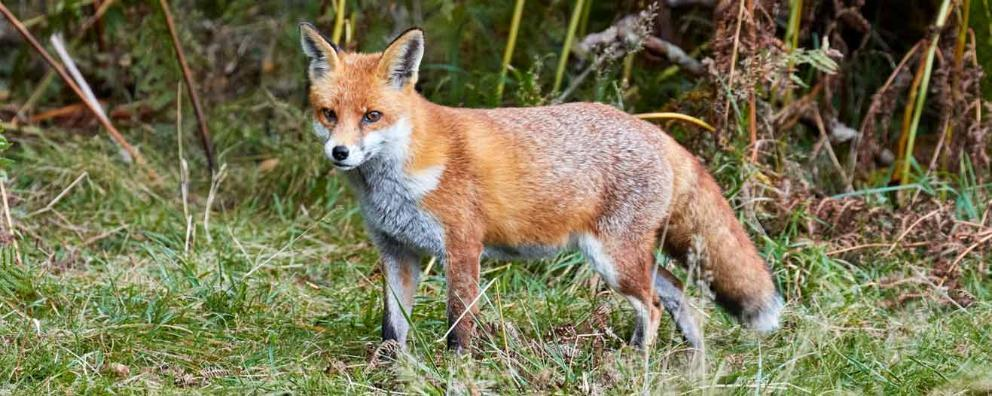fox: (227, 7, 806, 389)
